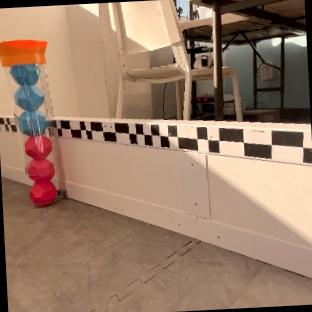Loader: (0, 38, 61, 204)
V5_BLUE: (10, 63, 46, 134), (18, 109, 47, 133)
V5_RED: (27, 158, 55, 203), (24, 134, 50, 158)
